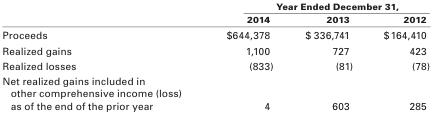table: (1, 0, 429, 111)
table column: (1, 0, 203, 111), (203, 0, 288, 111), (288, 0, 367, 111), (367, 0, 429, 111)
table column header: (1, 0, 429, 26)
table row: (1, 72, 429, 111), (1, 26, 429, 42), (1, 42, 429, 57), (1, 57, 429, 72), (1, 12, 429, 26), (1, 0, 429, 12)
table spanning cell: (203, 0, 429, 12)
